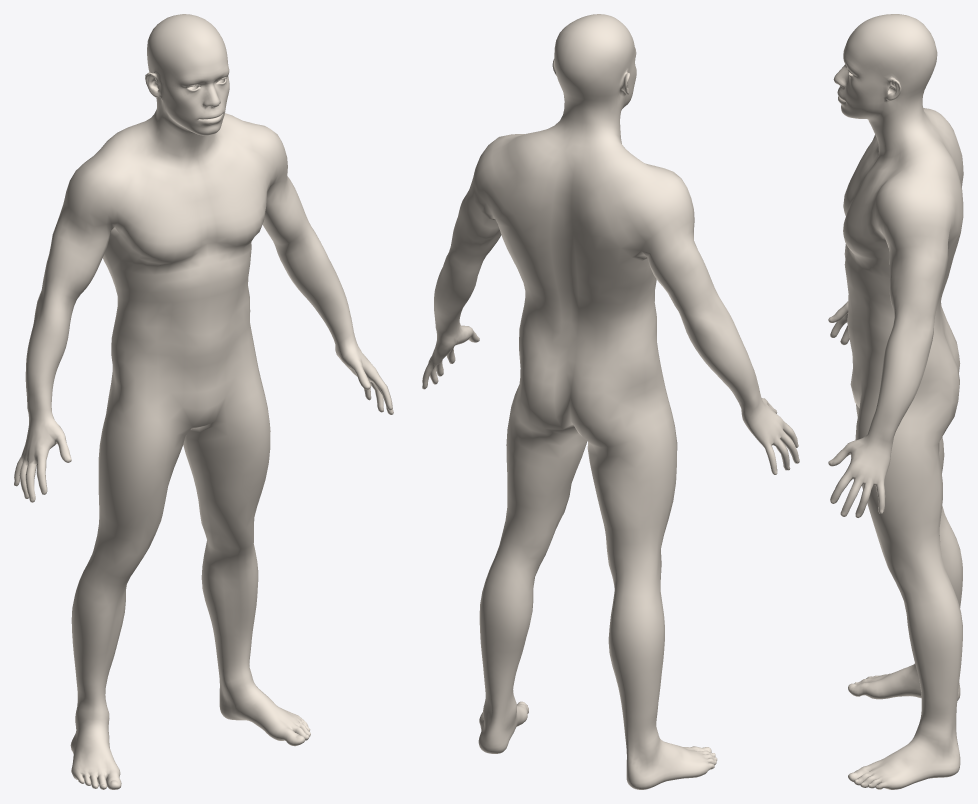
Rendered from avatar_58b6dfcb_body.glb.
The picture shows the model from 3 angles, left to right: view 1: azimuth 30°, elevation 25°; view 2: azimuth 150°, elevation 25°; view 3: azimuth 270°, elevation 25°; orthographic projection.
Visible parts, largest first — view 1: GEO-body_male_realistic; view 2: GEO-body_male_realistic; view 3: GEO-body_male_realistic.
Boxes of the visible parts, bbox=[...] form: GEO-body_male_realistic: bbox=[14, 14, 393, 789]; GEO-body_male_realistic: bbox=[422, 14, 799, 789]; GEO-body_male_realistic: bbox=[828, 14, 963, 789].
Size of the model in its own units: 0.9314 by 1.8 by 0.3057.
